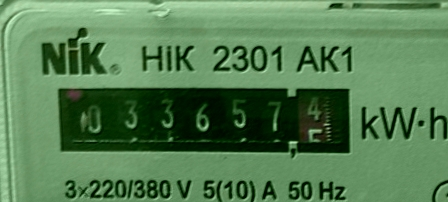0: (83, 101, 105, 138)
3: (121, 97, 141, 133), (157, 97, 176, 132)
4: (304, 94, 324, 124)
5: (227, 96, 250, 132)
6: (191, 100, 212, 135)
7: (264, 98, 283, 134)
screen: (45, 78, 359, 164)
